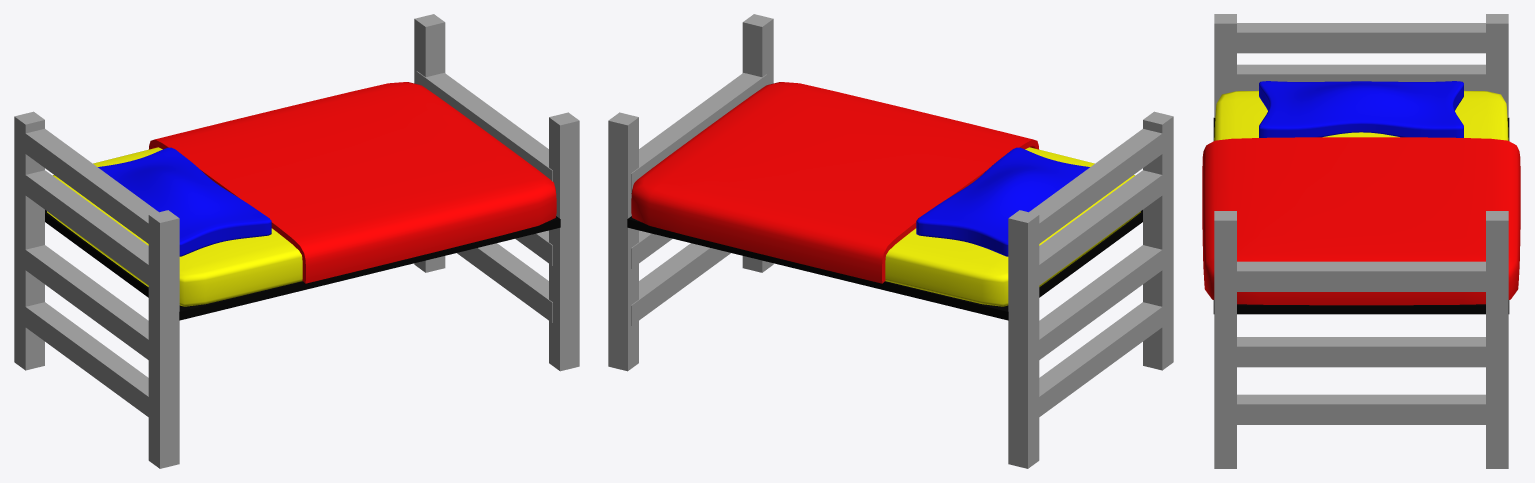
File: newbedbedding.fbx
3 views of the same model, side by side, from view 1: azimuth 30°, elevation 25°; view 2: azimuth 150°, elevation 25°; view 3: azimuth 270°, elevation 25° (orthographic).
Visible parts, largest first — view 1: woodframe, bedsheet, pCube16, bedmattress, metalframe; view 2: woodframe, bedsheet, pCube16, bedmattress, metalframe; view 3: woodframe, bedsheet, pCube16, bedmattress, metalframe.
Part boxes in pixels (x1,y1,x2,y2): woodframe: (14,14,579,468); bedsheet: (149,82,556,283); pCube16: (98,147,271,256); bedmattress: (47,147,302,306); metalframe: (45,210,560,320); woodframe: (608,14,1173,468); bedsheet: (631,82,1038,283); pCube16: (916,147,1089,256); bedmattress: (885,147,1140,306); metalframe: (627,210,1142,320); woodframe: (1214,14,1508,468); bedsheet: (1202,137,1520,305); pCube16: (1259,81,1463,137); bedmattress: (1214,90,1508,140); metalframe: (1213,118,1509,314).
Bounding box in the file's own units: 6.49 × 3.63 × 4.22.
